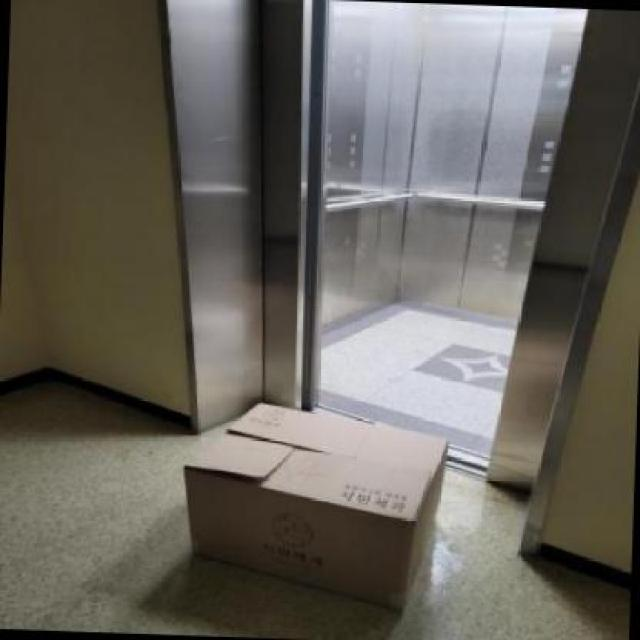box: (169, 378, 473, 628)
